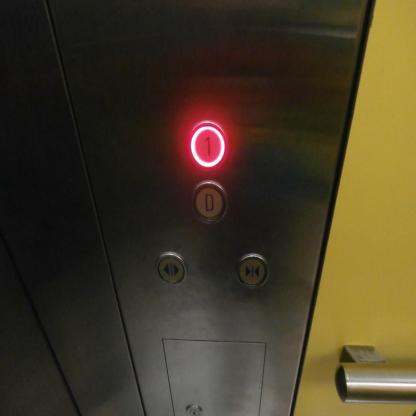1: (185, 118, 232, 174)
D: (185, 177, 230, 228)
close: (233, 248, 271, 289)
open: (153, 248, 190, 288)
